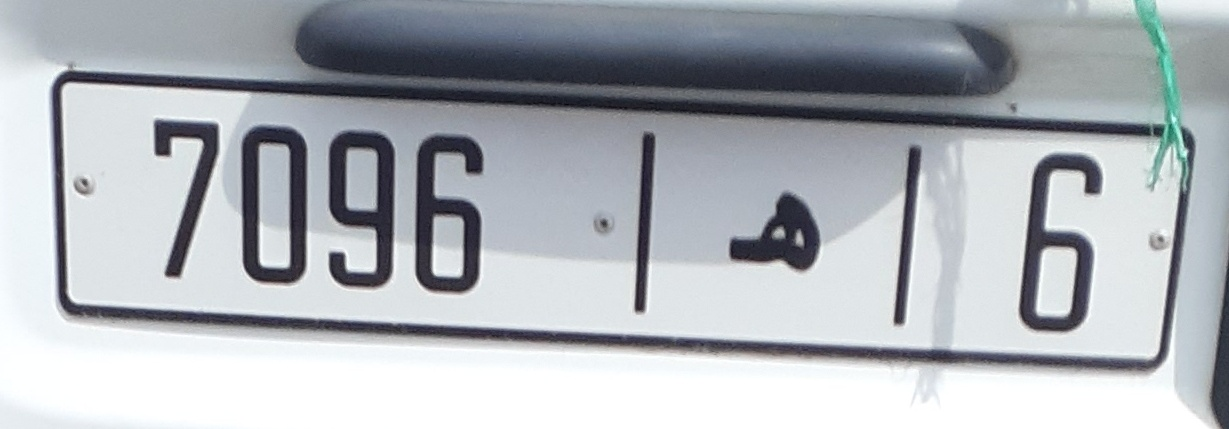0: (236, 118, 314, 291)
6: (1004, 146, 1108, 334), (410, 118, 495, 302)
7: (141, 109, 225, 287)
9: (319, 122, 401, 292)
h: (714, 164, 832, 280)
